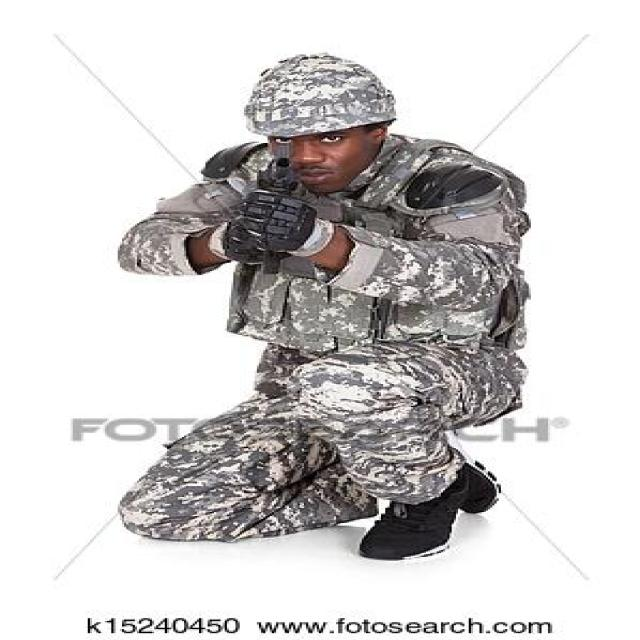soldier: (115, 59, 525, 562)
